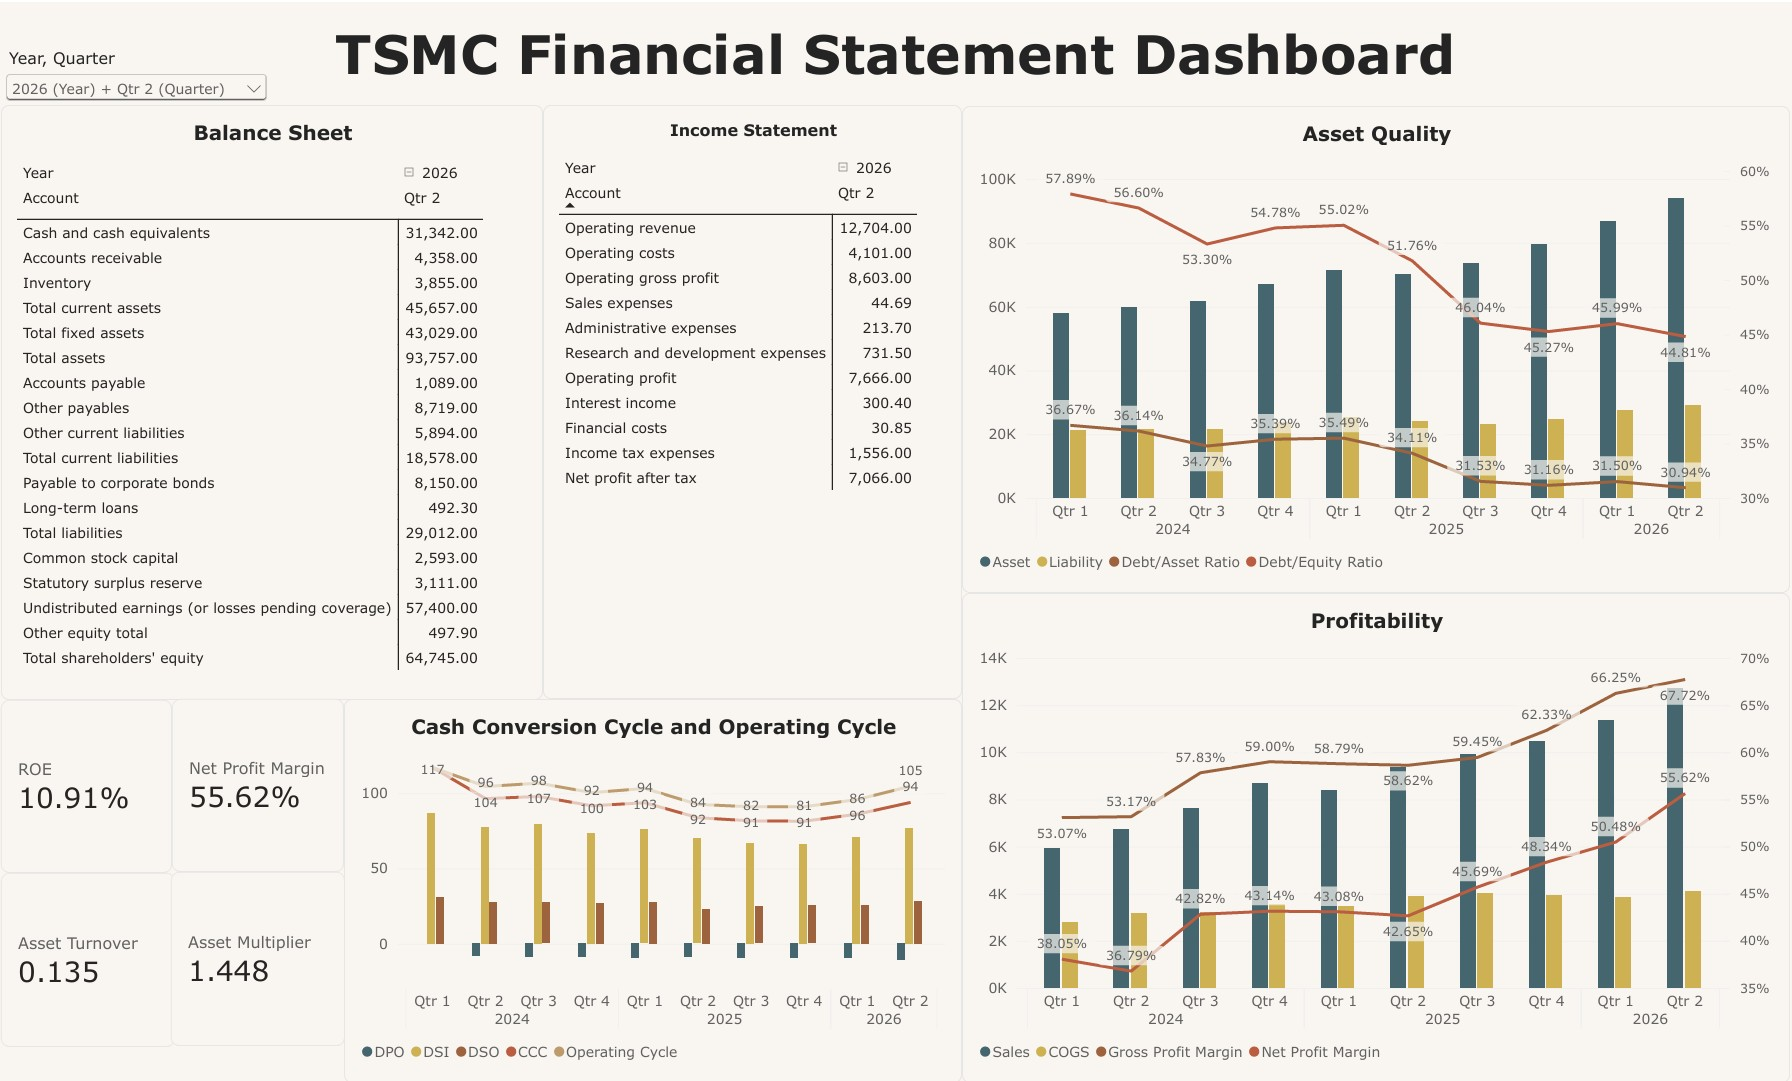

The dashboard page shown, as its layout file describes it:
{"tool":"powerbi","page":{"name":"FS","canvas":[1920,1080],"ordinal":0},"visuals":[{"type":"lineClusteredColumnComboChart","title":"Asset Quality","fields":{"Category":["Date_Table.Date.Variation.Date Hierarchy.Year","Date_Table.Date.Variation.Date Hierarchy.Quarter"],"Y":["2330 BS (2).Asset","2330 BS (2).Liability"],"Y2":["2330 BS (2).Debt/Asset Ratio","2330 BS (2).Debt/Equity Ratio"]},"box":[960.6,102.7,828.1,486.9],"z":0},{"type":"pivotTable","title":"Balance Sheet","fields":{"Columns":["Date_Table.Date.Variation.Date Hierarchy.Year","Date_Table.Date.Variation.Date Hierarchy.Quarter"],"Rows":["2330 BS_GL number.Account"],"Values":["Sum(2330 BS (2).Value)"]},"box":[0,101.6,542.1,595.1],"z":1000},{"type":"pivotTable","title":"Income Statement","fields":{"Columns":["Date_Table.Date.Variation.Date Hierarchy.Year","Date_Table.Date.Variation.Date Hierarchy.Quarter"],"Rows":["2330 IS_GL number.Account"],"Values":["Sum(2330 IS (2).Value)"]},"box":[542.1,101.6,418.4,594],"z":2000},{"type":"textbox","box":[0,16.6,1788.6,85],"z":3000},{"type":"cardVisual","fields":{"Data":["2330 BS (2).ROE"]},"box":[0,696.7,170.8,173.7],"z":4000},{"type":"cardVisual","fields":{"Data":["2330 IS (2).Net Profit %"]},"box":[171.1,695.6,171.8,173.7],"z":5000},{"type":"cardVisual","fields":{"Data":["2330 BS (2).Asset Turnover"]},"box":[0,870,173.7,173.7],"z":6000},{"type":"cardVisual","fields":{"Data":["2330 BS (2).Asset Multiplier"]},"box":[170,868.9,173.7,173.7],"z":7000},{"type":"slicer","fields":{"Values":["Date_Table.Date.Variation.Date Hierarchy.Year","Date_Table.Date.Variation.Date Hierarchy.Quarter"]},"box":[0,45.3,270.5,56.3],"z":8000},{"type":"lineClusteredColumnComboChart","title":"Cash Conversion Cycle and Operating Cycle","fields":{"Category":["Date_Table.Date.Variation.Date Hierarchy.Year","Date_Table.Date.Variation.Date Hierarchy.Quarter"],"Y":["2330 BS (2).DPO","2330 BS (2).DSI","2330 BS (2).DSO"],"Y2":["2330 BS (2).CCC","2330 BS (2).Operating Cycle"]},"box":[343.4,695.6,617.2,384.2],"z":9000},{"type":"lineClusteredColumnComboChart","title":"Profitability","fields":{"Category":["Date_Table.Date.Variation.Date Hierarchy.Year","Date_Table.Date.Variation.Date Hierarchy.Quarter"],"Y":["2330 IS (2).Sales","2330 IS (2).COGS"],"Y2":["2330 IS (2).Gross Profit Margin","2330 IS (2).Net Profit Margin"]},"box":[960.6,589.6,828.1,490.2],"z":10000}]}

Visuals, with their boxes on the page's 1920x1080 design canvas (x1, y1, x2, y2). These are canvas units, not pixel positions in the 1792x1081 screenshot, which may show the page scaled, cropped or inside an application window:
"Asset Quality" lineClusteredColumnComboChart: locate(961, 103, 1789, 590)
"Balance Sheet" pivotTable: locate(0, 102, 542, 697)
"Income Statement" pivotTable: locate(542, 102, 960, 696)
textbox: locate(0, 17, 1789, 102)
cardVisual - 2330 BS (2).ROE: locate(0, 697, 171, 870)
cardVisual - 2330 IS (2).Net Profit %: locate(171, 696, 343, 869)
cardVisual - 2330 BS (2).Asset Turnover: locate(0, 870, 174, 1044)
cardVisual - 2330 BS (2).Asset Multiplier: locate(170, 869, 344, 1043)
slicer - Date_Table.Date.Variation.Date Hierarchy.Year x Date_Table.Date.Variation.Date Hierarchy.Quarter: locate(0, 45, 270, 102)
"Cash Conversion Cycle and Operating Cycle" lineClusteredColumnComboChart: locate(343, 696, 961, 1080)
"Profitability" lineClusteredColumnComboChart: locate(961, 590, 1789, 1080)
